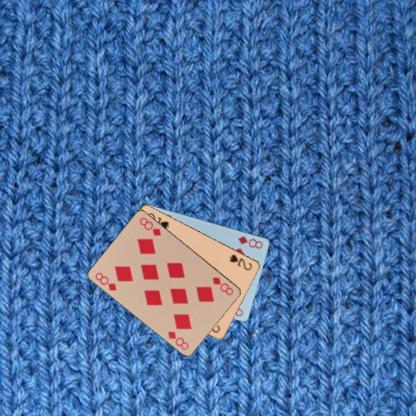2s: (227, 252, 254, 272)
8d: (92, 270, 118, 292), (210, 274, 234, 297), (235, 233, 264, 250)
